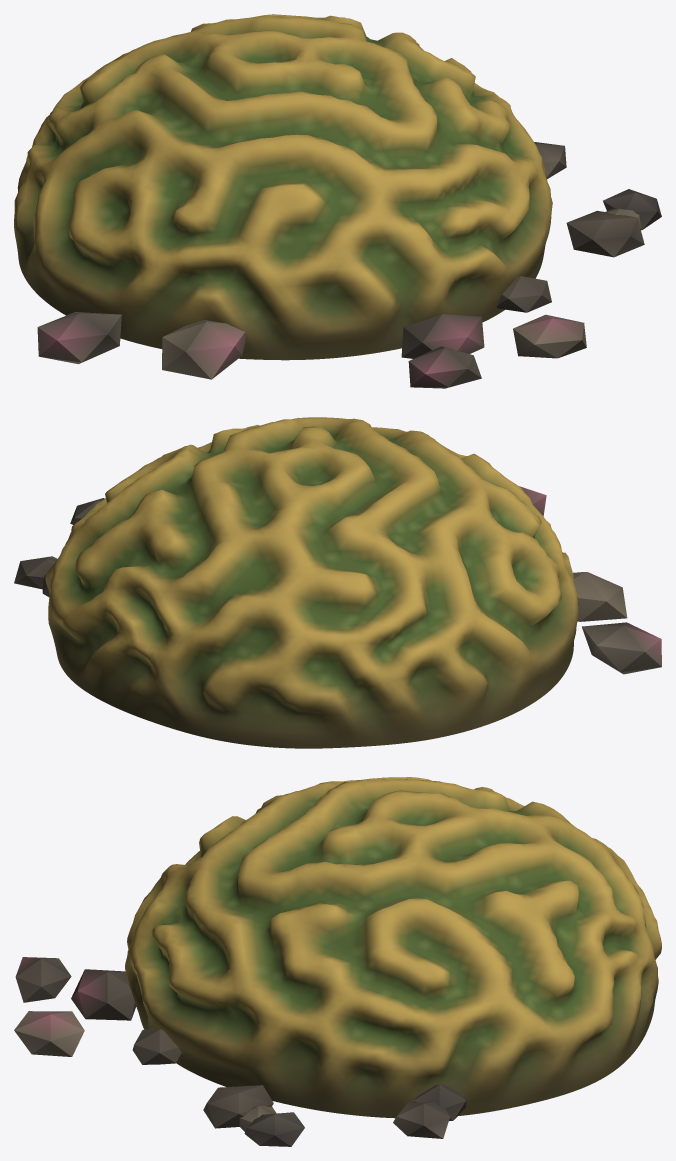
File: BrainCoral.fbx
The picture shows the model from 3 angles, top to bottom: view 1: azimuth 30°, elevation 25°; view 2: azimuth 150°, elevation 25°; view 3: azimuth 270°, elevation 25°; orthographic projection. The views are drawn at different scales.
Parts seen in each view (by area): view 1: BrainCoral; view 2: BrainCoral; view 3: BrainCoral.
Boxes of the visible parts, x1,y1,x2,y2 form: BrainCoral: [14, 14, 661, 388]; BrainCoral: [14, 417, 661, 748]; BrainCoral: [14, 777, 661, 1146].
Size of the model in its own units: 1.37 by 0.4394 by 1.27.
